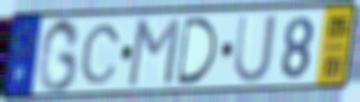8: (280, 14, 315, 81)
C: (78, 22, 123, 87)
D: (175, 15, 220, 87)
G: (35, 16, 83, 95)
M: (124, 15, 183, 89)
U: (232, 12, 279, 86)
